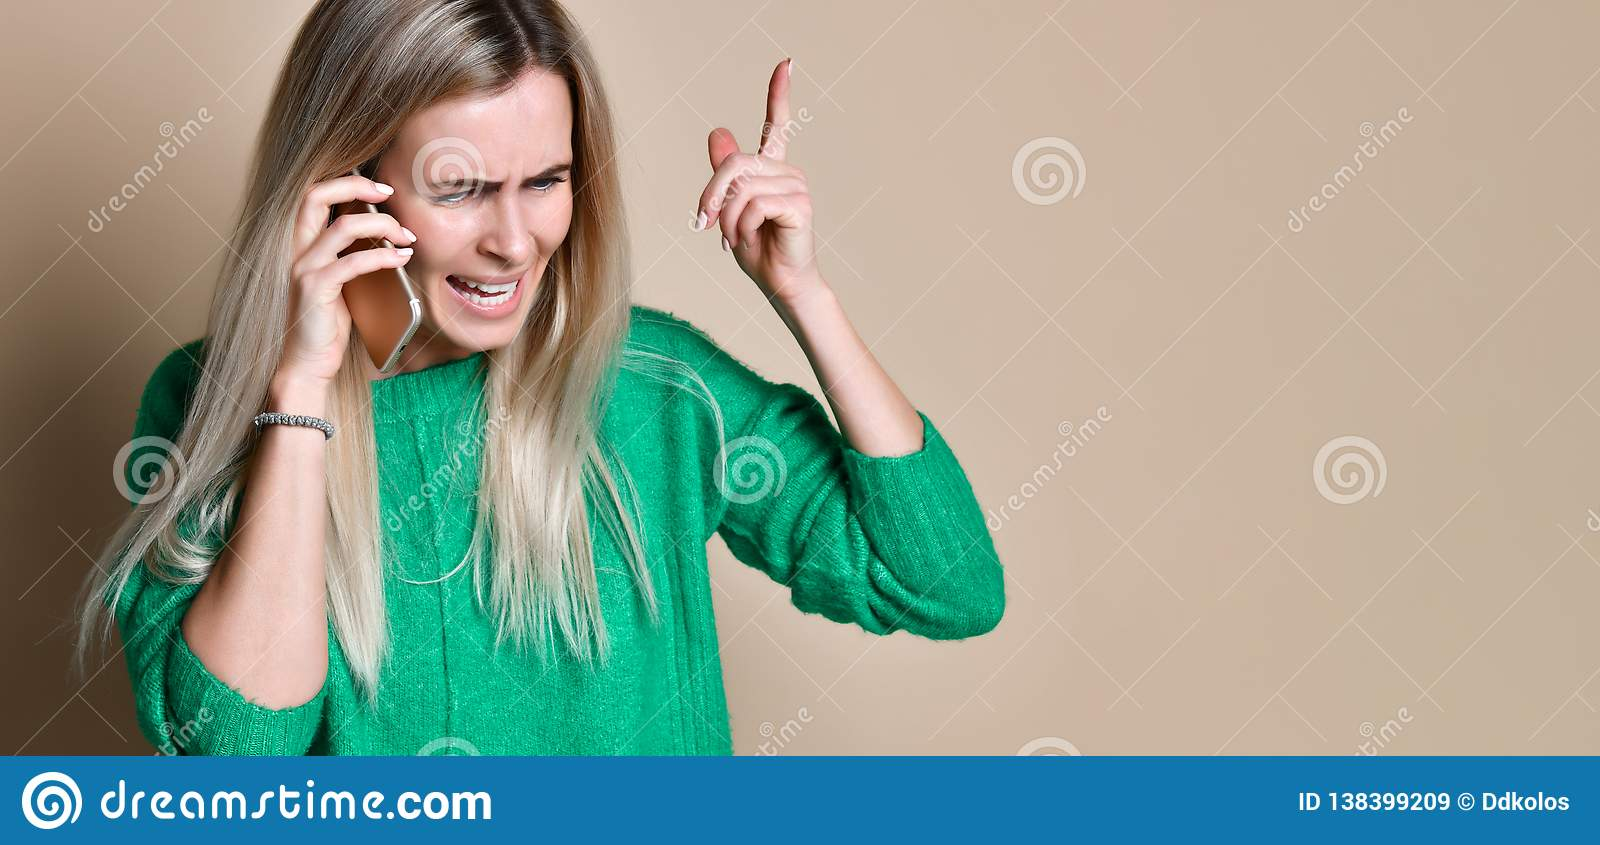phone: (324, 157, 425, 389)
talk: (272, 132, 572, 414)
